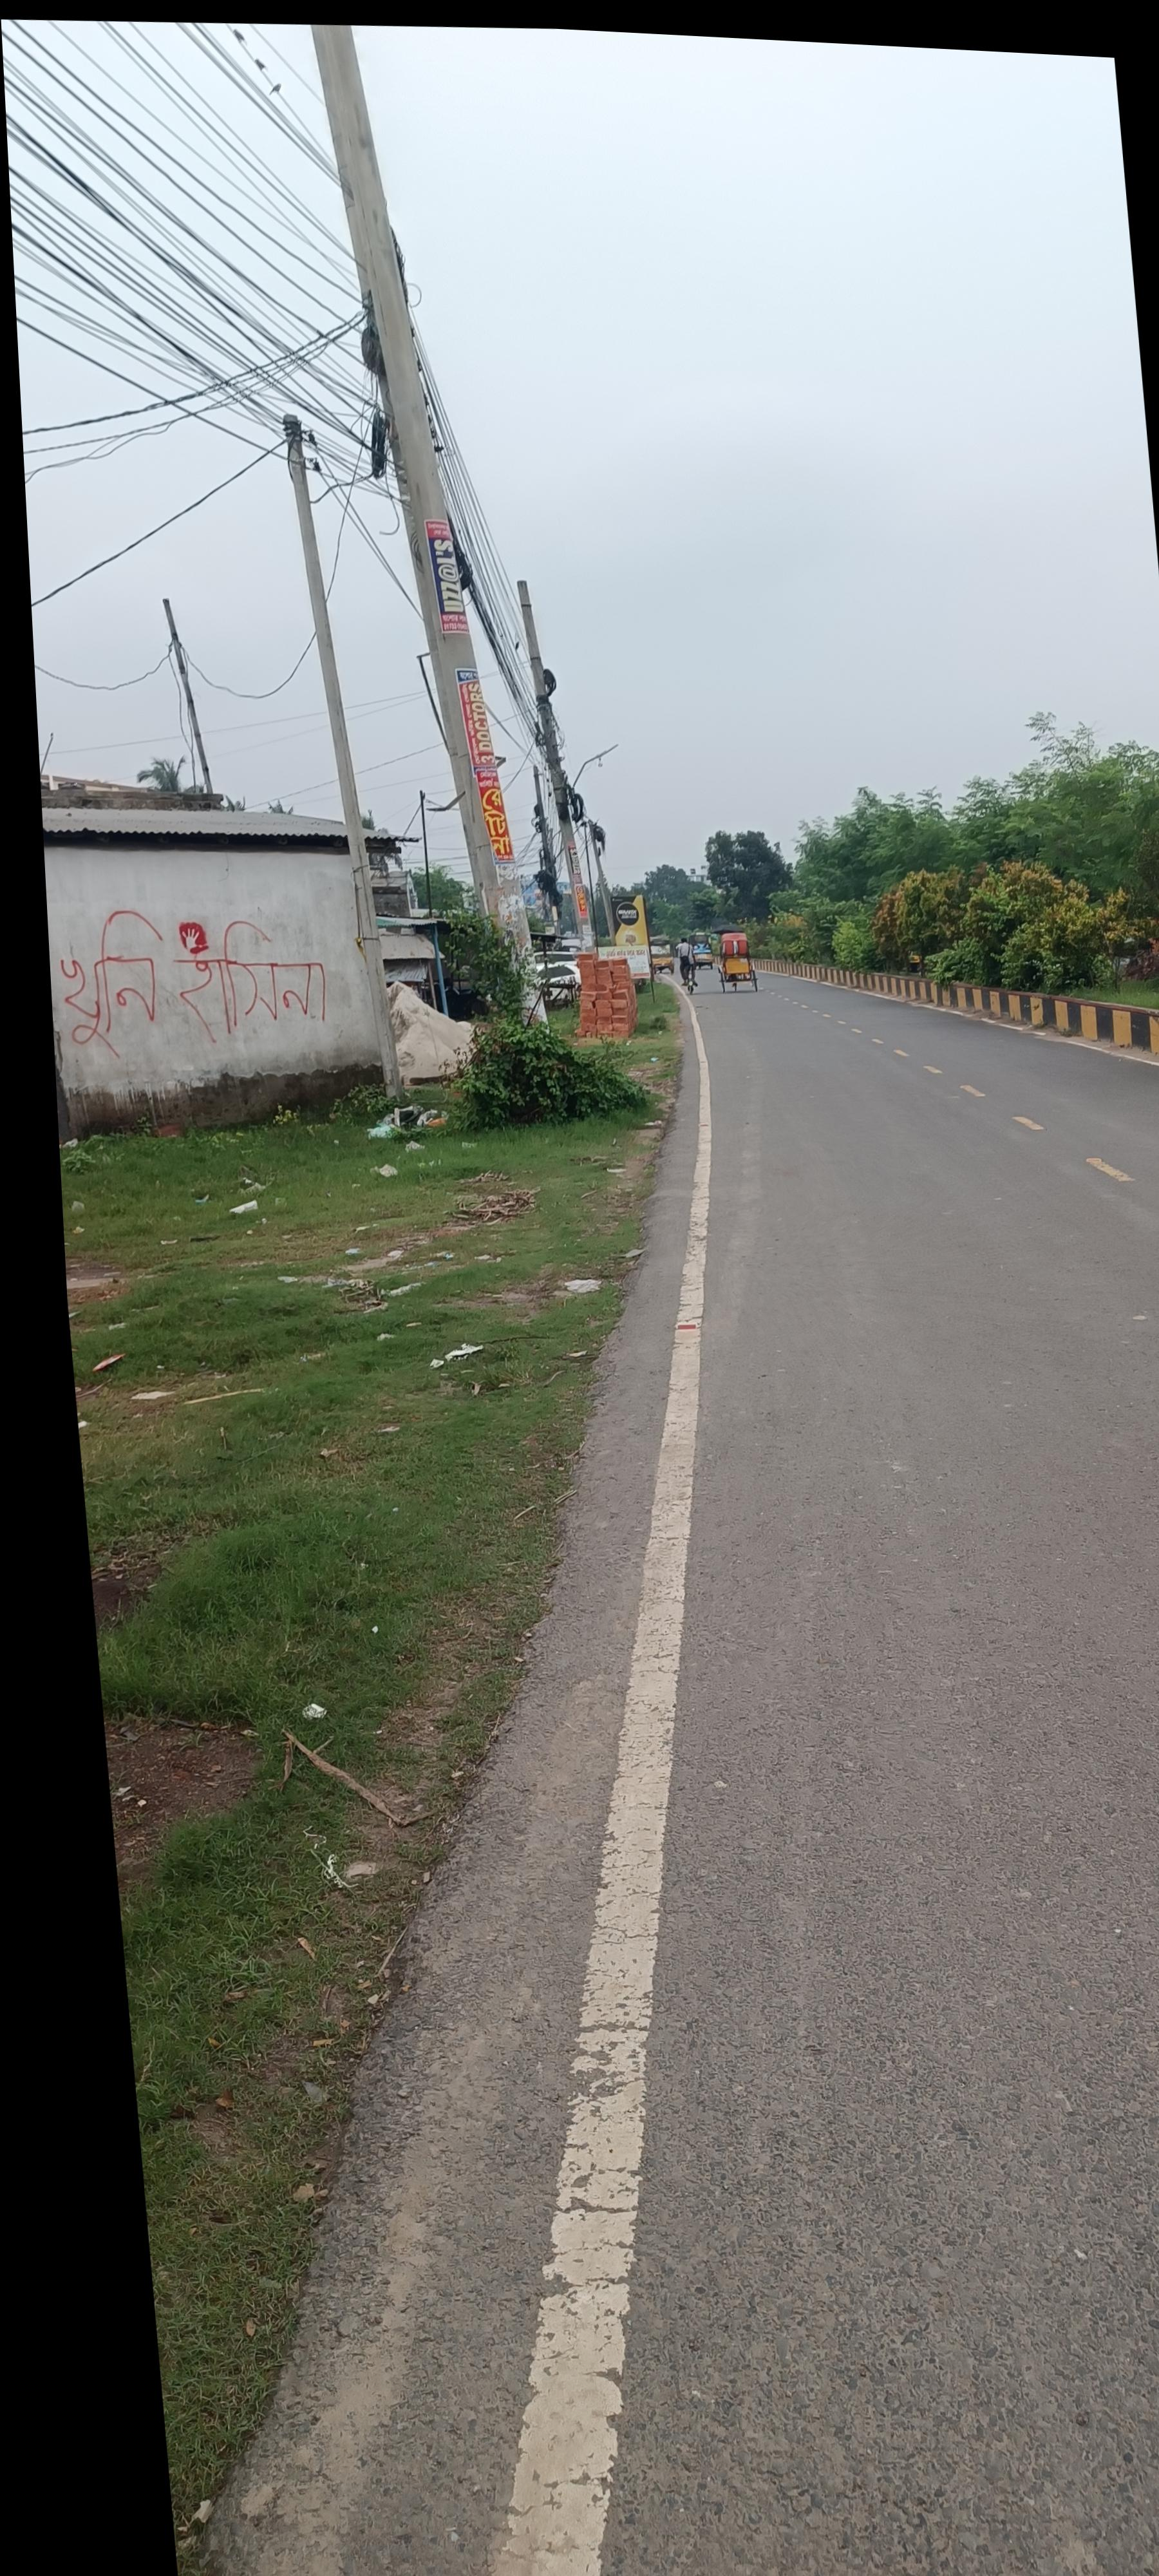Construction-barrier: (793, 933, 1151, 1107)
Garbage-bin: (624, 946, 645, 1002)
Light-pole: (268, 36, 492, 1043)
